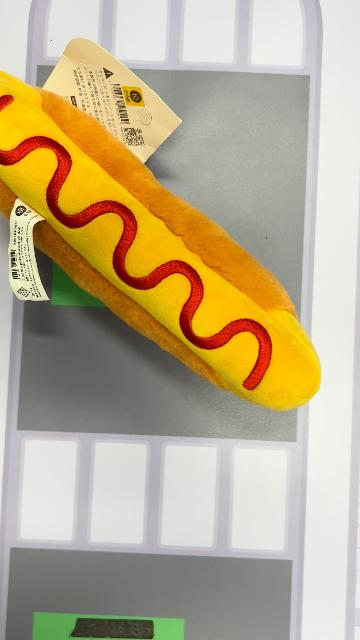hotdog: (1, 70, 322, 413)
